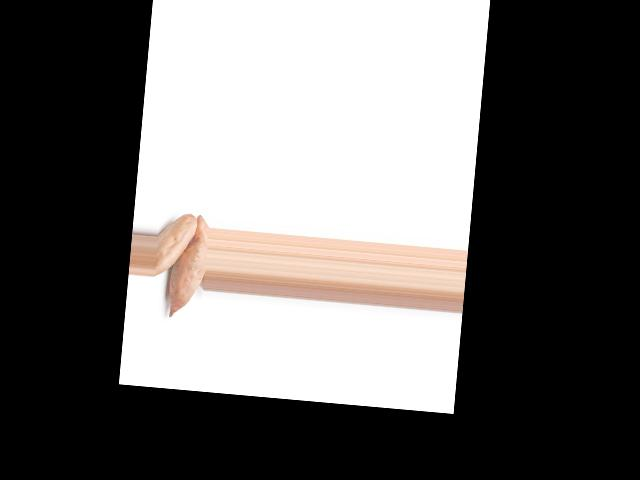sweet_potato: (153, 211, 197, 283)
